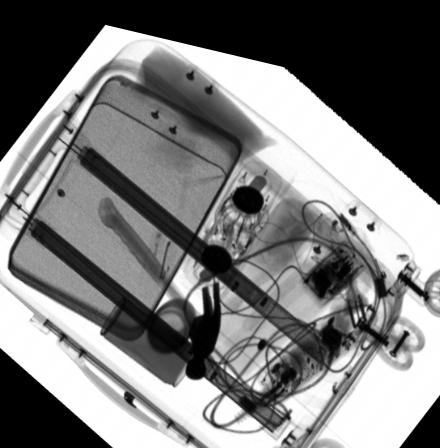Hammer: (96, 190, 220, 370)
